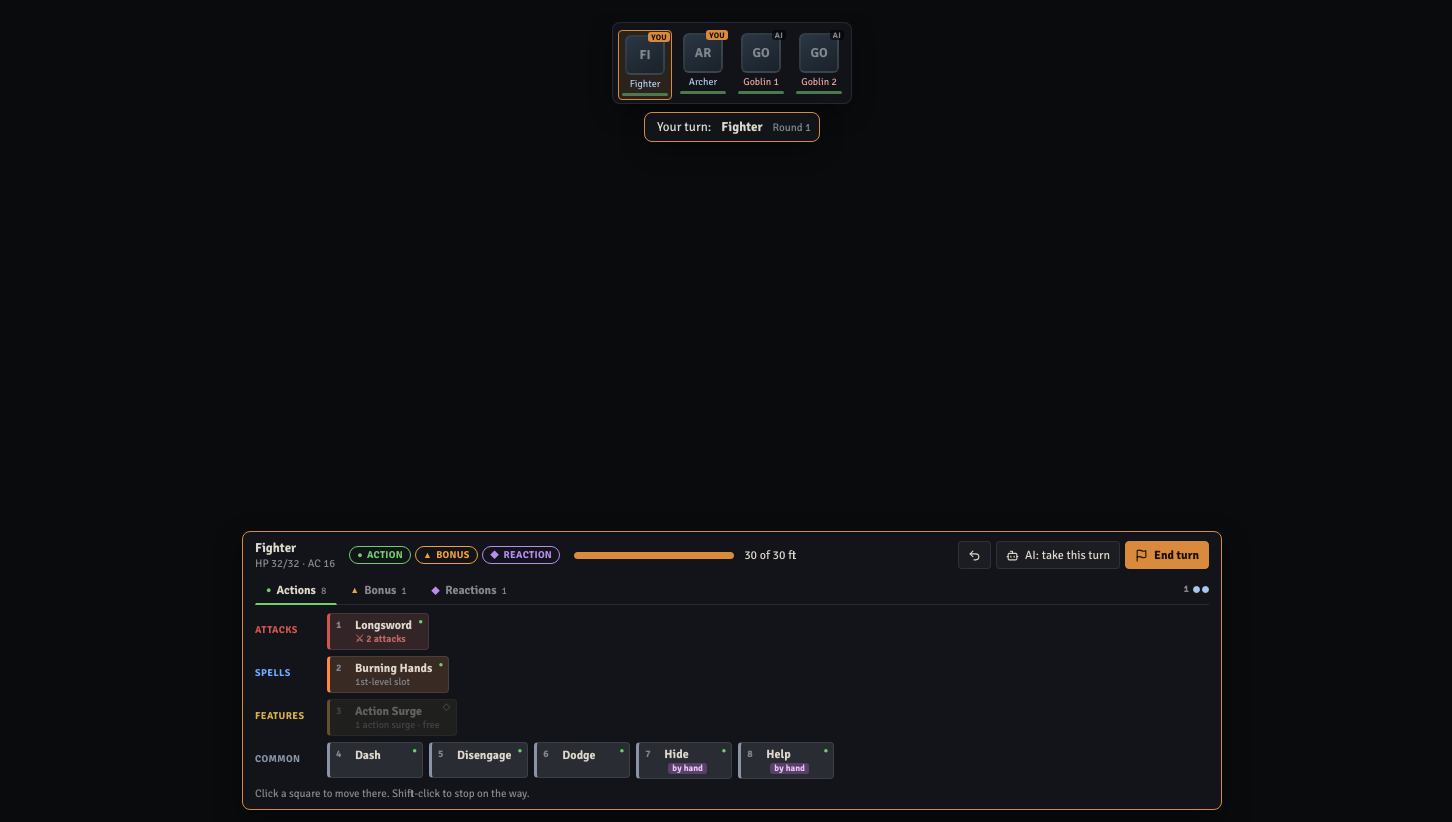
the hotbar › an area follows the cursor: its squares, the foes it catches with their chances, and a warning for a friend
Click the tab "Actions 8": (296, 592) 255,578 -> 337,605
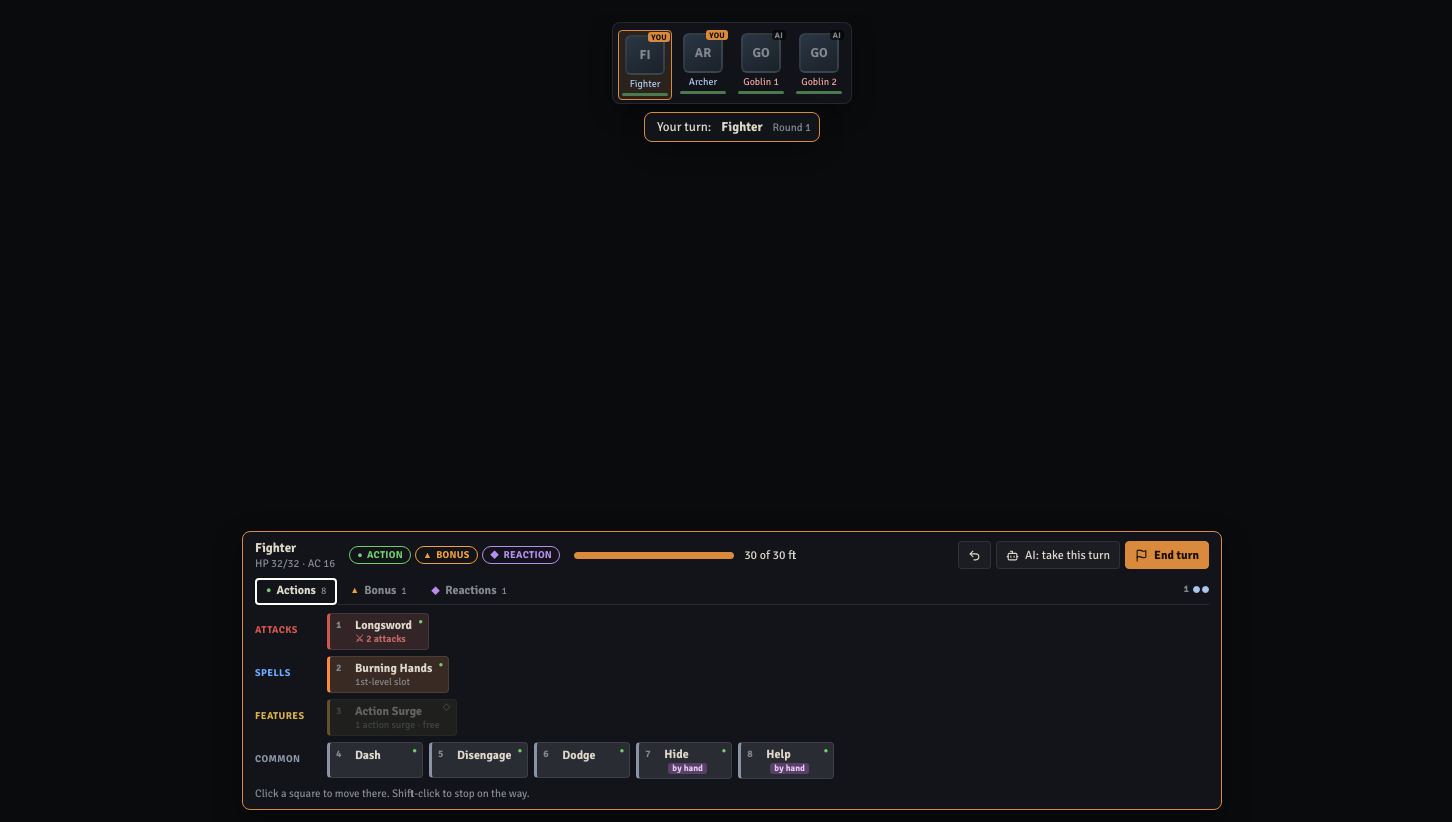
Click the button "2 Burning Hands 1st-level slot": (388, 674) 327,656 -> 449,693
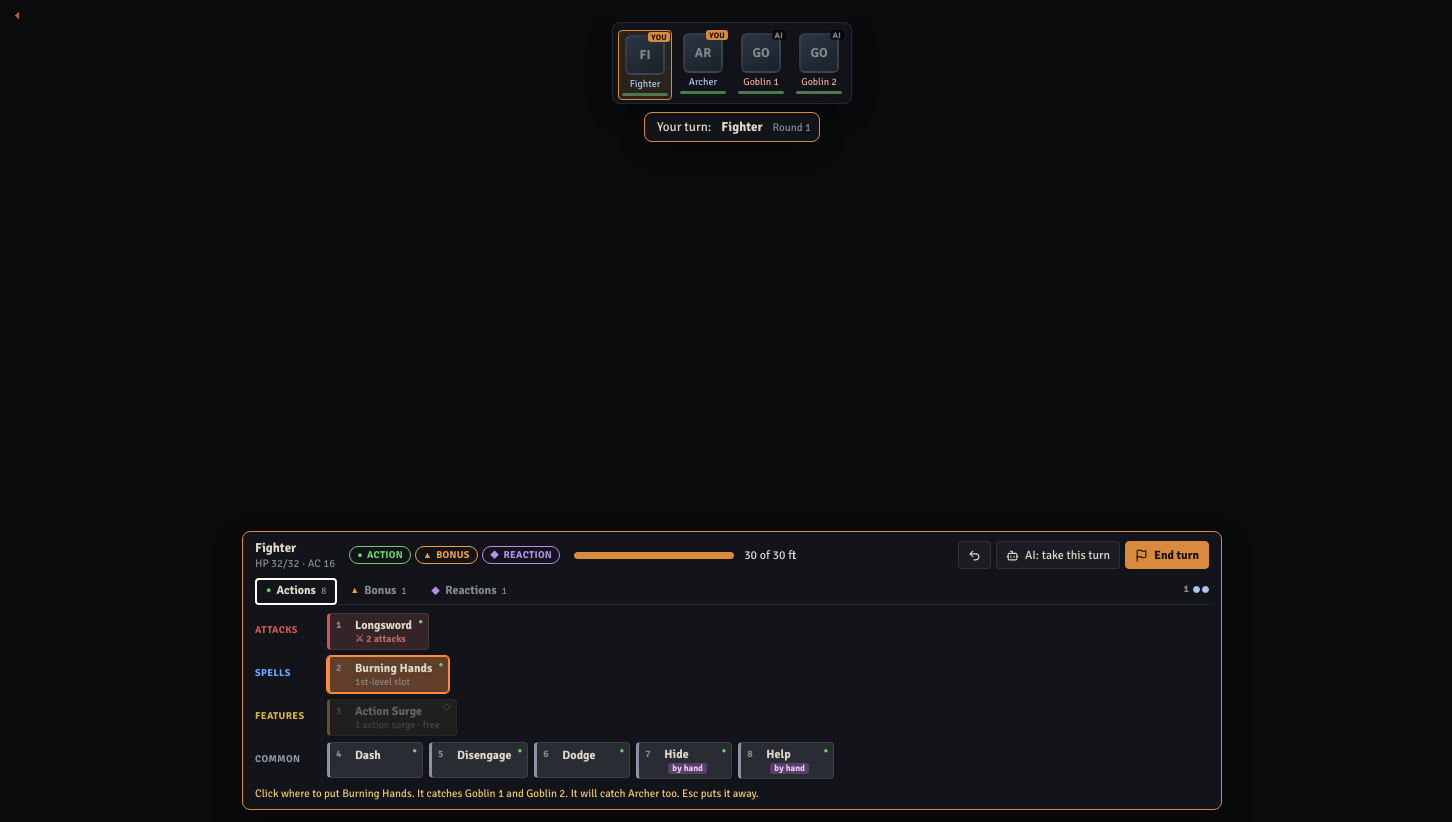
Expected: the text "Click where to put Burning Hands. It catches Goblin 1 and Goblin 2. It will catch Archer too. Esc puts it away." is shown, 255,787 -> 759,800
